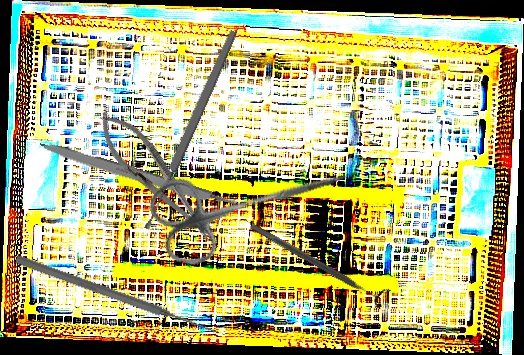Fixation Ring: (244, 214, 393, 312)
Iris Scissors: (143, 129, 362, 273)
Needle Holder: (86, 101, 226, 254)
Pusher: (14, 253, 218, 338)
Scalpel Handle: (37, 139, 238, 213)
Surgical Spoon: (140, 28, 240, 232)
